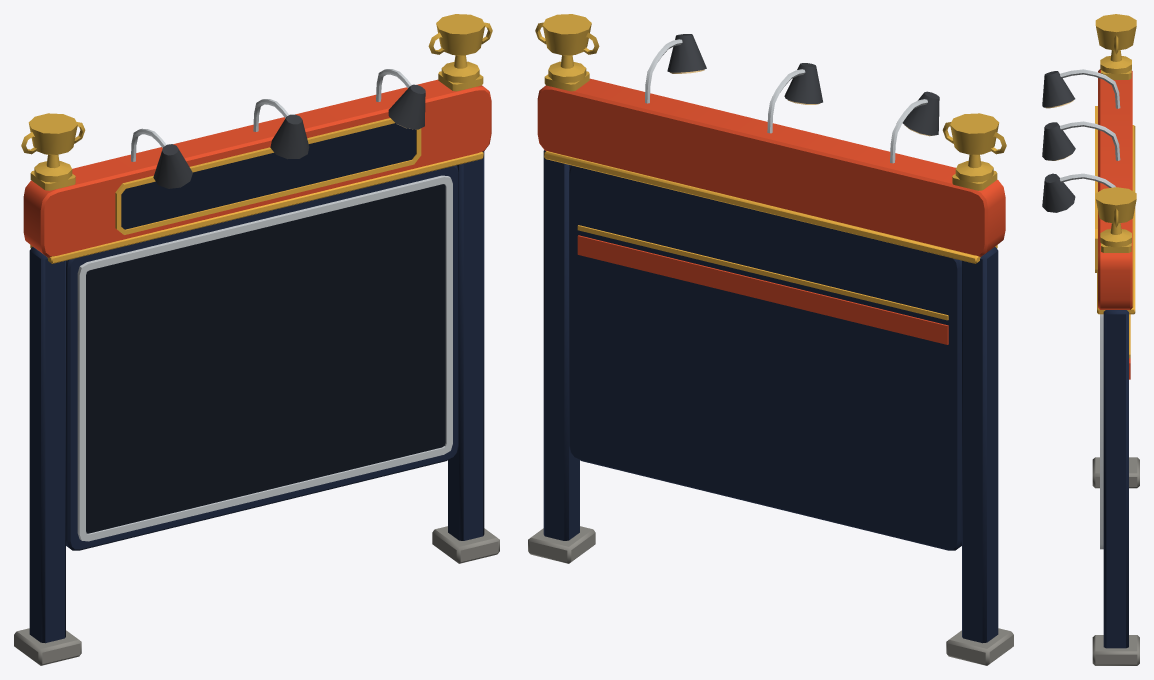
Rendered from Lobby_LeaderboardBoard.fbx.
3 renders of one model, left to right at view 1: azimuth 30°, elevation 25°; view 2: azimuth 150°, elevation 25°; view 3: azimuth 270°, elevation 25°, orthographic. The views are drawn at different scales.
Visible parts, largest first — view 1: Screen, Frame, Header, Chrome, TitlePanel, Trim, Trophies, Shades, Footings; view 2: Frame, Header, BackBelt, Trophies, Trim, Shades, Footings, Chrome; view 3: Frame, Header, Trophies, Shades, Chrome, Footings, Trim.
Part boxes in pixels (box(x1,y1,x2,y2)): Screen: box(86, 184, 445, 533); Frame: box(29, 151, 484, 643); Header: box(23, 79, 491, 257); Chrome: box(77, 69, 452, 541); TitlePanel: box(121, 123, 416, 229); Trim: box(30, 118, 483, 263); Trophies: box(21, 14, 492, 190); Shades: box(153, 84, 425, 188); Footings: box(14, 526, 499, 665); Frame: box(543, 150, 998, 643); Header: box(537, 78, 1005, 256); BackBelt: box(577, 235, 948, 344); Trophies: box(535, 14, 1006, 190); Trim: box(544, 151, 997, 320); Shades: box(667, 34, 939, 135); Footings: box(528, 526, 1013, 665); Chrome: box(645, 39, 927, 163); Frame: box(1103, 310, 1128, 648); Header: box(1098, 69, 1132, 309); Trophies: box(1095, 14, 1136, 252); Shades: box(1042, 71, 1075, 212); Chrome: box(1060, 69, 1120, 549); Footings: box(1092, 457, 1139, 665); Trim: box(1095, 106, 1135, 358).
Size of the model in its own units: 1308 by 1398 by 269.
